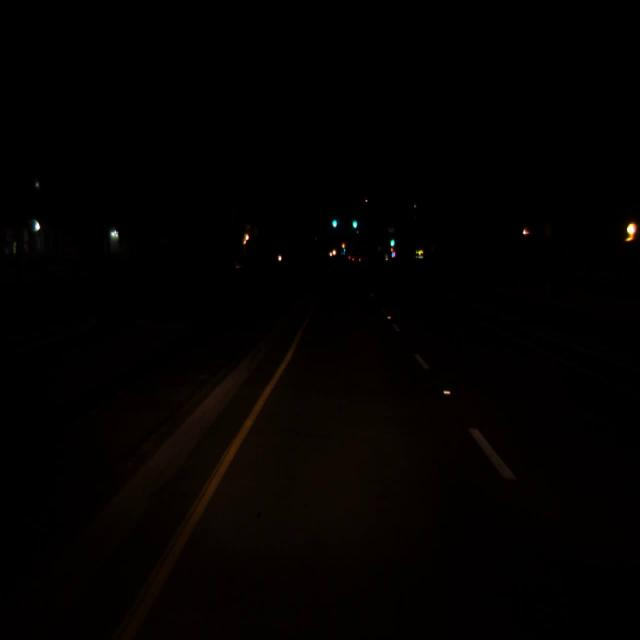go: (333, 222, 337, 226), (391, 240, 394, 245), (353, 222, 357, 225)
go traffic light: (331, 215, 337, 228), (351, 216, 358, 226), (390, 232, 394, 246)
